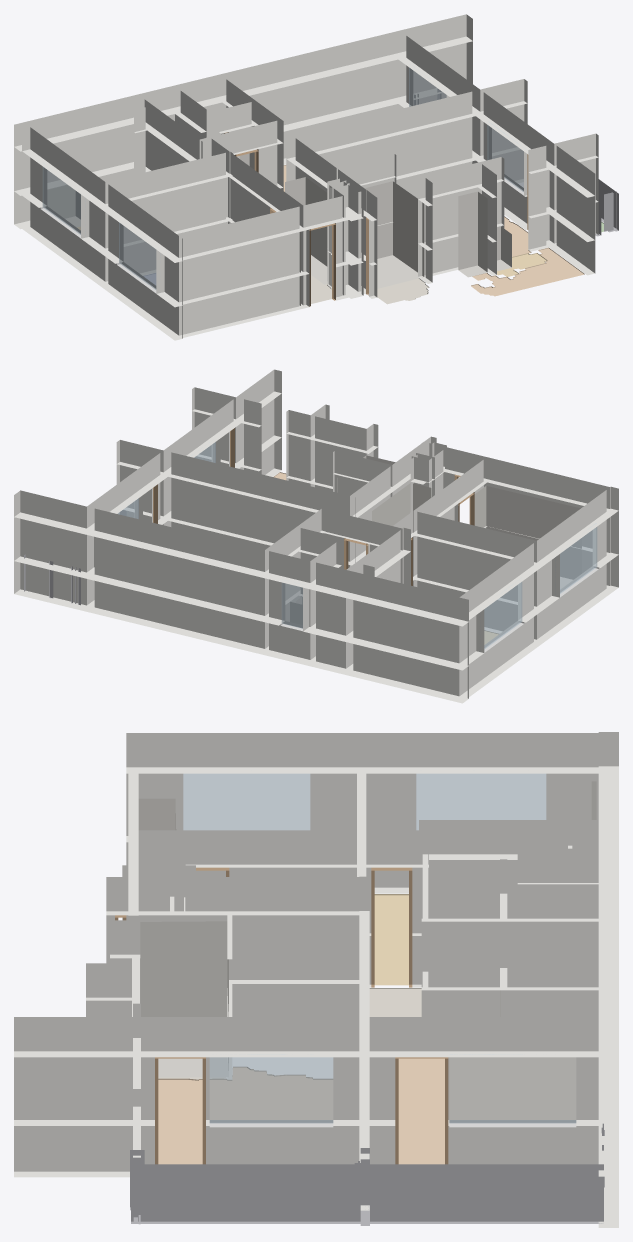
The picture shows the model from 3 angles, top to bottom: view 1: azimuth 30°, elevation 25°; view 2: azimuth 150°, elevation 25°; view 3: azimuth 270°, elevation 25°; orthographic projection. The views are drawn at different scales.
Parts seen in each view (by area): view 1: walls, furniture_3_closet, furniture_5_closet, floor_10_Living_Room, furniture_2_closet, window_5, window_4, window_8, railings, furniture_6_appliance, floor_11_Entry, window_0 (+4 smaller); view 2: walls, furniture_4_closet, window_5, window_4, furniture_2_closet, window_2, railings; view 3: walls, railings, floor_3_Living_Room, furniture_3_closet, floor_9_Living_Room, window_0, window_8, window_4, window_5, floor_0_Kitchen, floor_4_Entry, furniture_4_closet (+5 smaller).
Boxes of the visible parts, bbox=[...] form: walls: bbox=[14, 14, 598, 340]; furniture_3_closet: bbox=[365, 181, 424, 288]; furniture_5_closet: bbox=[458, 191, 487, 277]; floor_10_Living_Room: bbox=[471, 247, 584, 296]; furniture_2_closet: bbox=[285, 177, 327, 284]; window_5: bbox=[42, 167, 85, 234]; window_4: bbox=[119, 222, 160, 289]; window_8: bbox=[487, 122, 523, 191]; railings: bbox=[414, 89, 618, 236]; furniture_6_appliance: bbox=[47, 185, 80, 227]; floor_11_Entry: bbox=[377, 278, 429, 304]; window_0: bbox=[409, 67, 446, 106]; walls: bbox=[14, 369, 618, 703]; furniture_4_closet: bbox=[474, 485, 581, 588]; window_5: bbox=[480, 582, 522, 649]; window_4: bbox=[555, 523, 597, 594]; furniture_2_closet: bbox=[372, 483, 431, 525]; window_2: bbox=[281, 582, 302, 628]; railings: bbox=[24, 510, 126, 605]; walls: bbox=[14, 732, 618, 1227]; railings: bbox=[130, 1123, 604, 1225]; floor_3_Living_Room: bbox=[398, 1057, 575, 1164]; furniture_3_closet: bbox=[140, 921, 228, 1077]; floor_9_Living_Room: bbox=[158, 1067, 332, 1164]; window_0: bbox=[449, 1054, 576, 1123]; window_8: bbox=[209, 1054, 333, 1123]; window_4: bbox=[183, 773, 310, 830]; window_5: bbox=[416, 773, 546, 830]; floor_0_Kitchen: bbox=[374, 894, 408, 985]; floor_4_Entry: bbox=[369, 988, 421, 1016]; furniture_4_closet: bbox=[138, 798, 176, 830].
Bounding box in the file's own units: 12.81 × 2.72 × 9.59.
